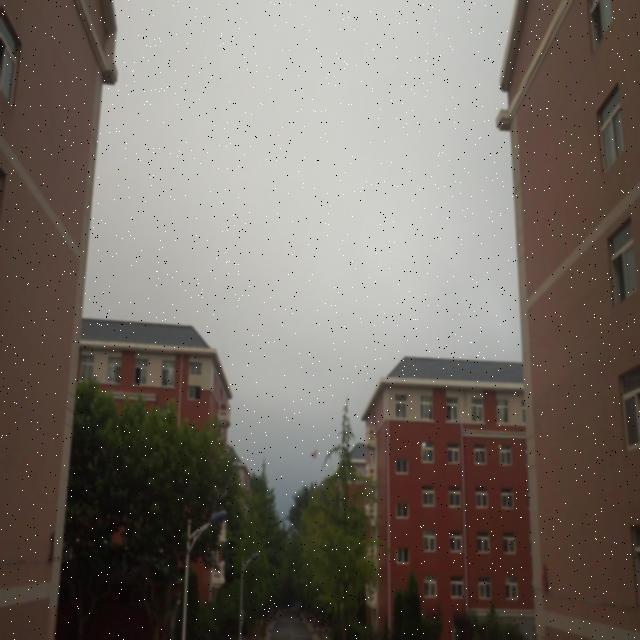UAV: (310, 449, 318, 460)
